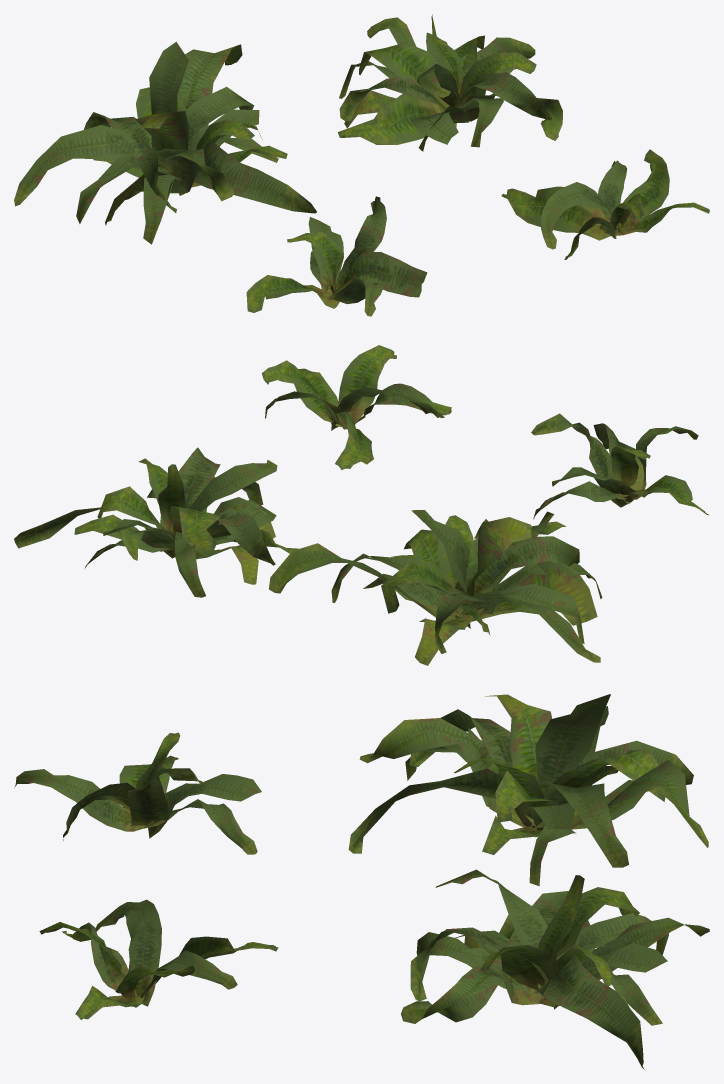
File: fern_02.glb
3 renders of one model, top to bottom at view 1: azimuth 30°, elevation 25°; view 2: azimuth 150°, elevation 25°; view 3: azimuth 270°, elevation 25°, orthographic. The views are drawn at different scales.
Visible parts, largest first — view 1: fern_02_b, fern_02_c, fern_02_d, fern_02_a; view 2: fern_02_b, fern_02_c, fern_02_d, fern_02_a; view 3: fern_02_b, fern_02_c, fern_02_a, fern_02_d.
Boxes of the visible parts, left/top/right/bottom form: fern_02_b: left=14, top=41, right=316, bottom=244; fern_02_c: left=338, top=14, right=562, bottom=151; fern_02_d: left=501, top=149, right=709, bottom=259; fern_02_a: left=246, top=196, right=427, bottom=316; fern_02_b: left=269, top=510, right=602, bottom=665; fern_02_c: left=14, top=447, right=299, bottom=597; fern_02_d: left=262, top=345, right=451, bottom=469; fern_02_a: left=531, top=413, right=708, bottom=519; fern_02_b: left=348, top=694, right=708, bottom=886; fern_02_c: left=401, top=869, right=709, bottom=1069; fern_02_a: left=14, top=732, right=261, bottom=854; fern_02_d: left=39, top=899, right=278, bottom=1019.
Size of the model in its own units: 1.97 by 0.4344 by 1.72.
1 material, 1 textured.
